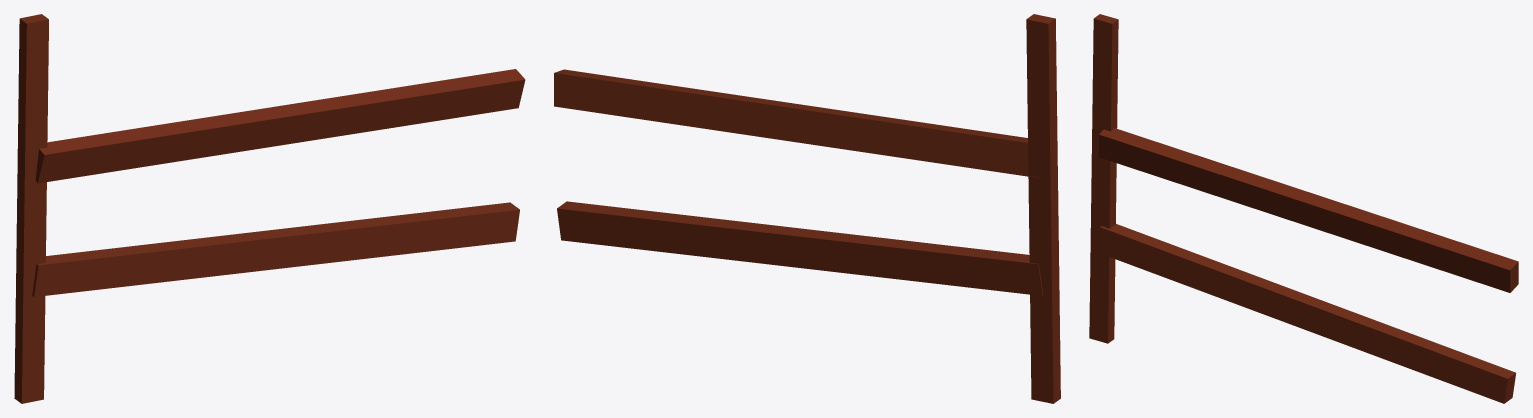
The model's file is cerca 1.fbx.
3 renders of one model, left to right at view 1: azimuth 30°, elevation 25°; view 2: azimuth 150°, elevation 25°; view 3: azimuth 330°, elevation 25°, orthographic. The views are drawn at different scales.
Parts seen in each view (by area): view 1: Cube.004; view 2: Cube.004; view 3: Cube.004.
Part boxes in pixels (<box>): Cube.004: <box>14,14,525,403</box>; Cube.004: <box>554,14,1060,403</box>; Cube.004: <box>1089,14,1518,403</box>.
Bounding box in the file's own units: 429 × 311 × 23.04.
